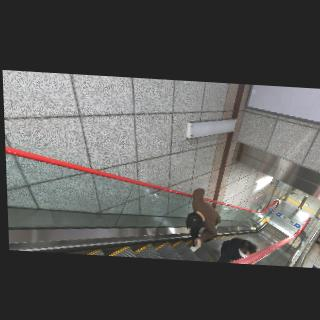normal: (186, 184, 224, 260), (213, 235, 263, 265)
